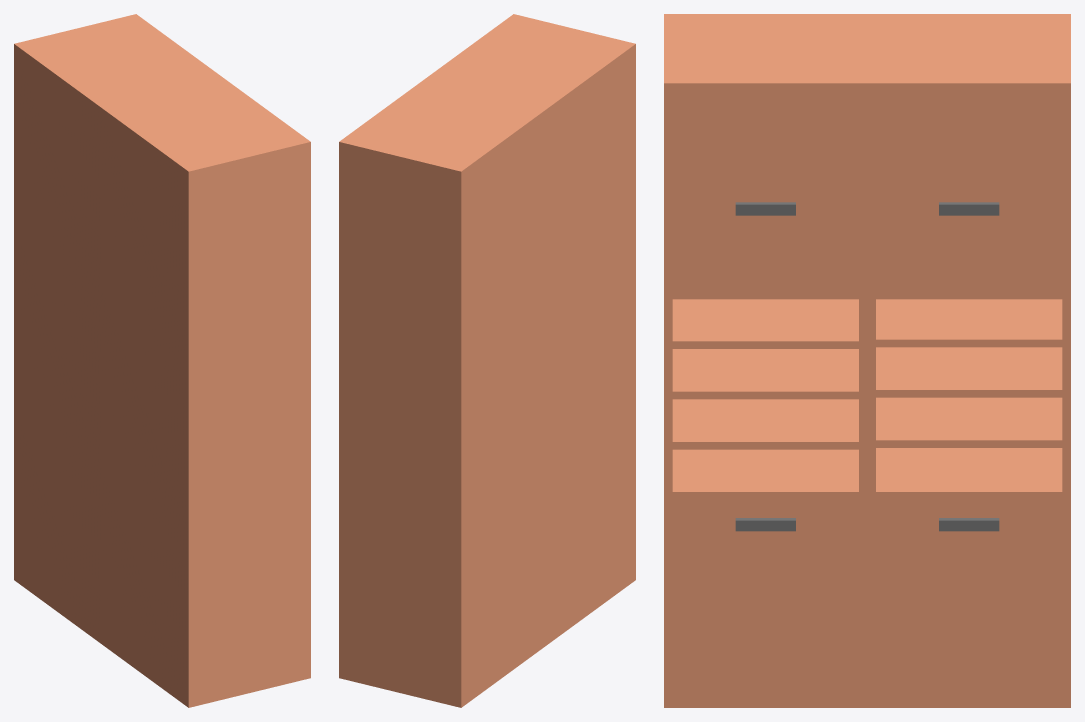
Rendered from VisioClassCloset.fbx.
The picture shows the model from 3 angles, left to right: view 1: azimuth 30°, elevation 25°; view 2: azimuth 150°, elevation 25°; view 3: azimuth 270°, elevation 25°; orthographic projection. The views are drawn at different scales.
Parts seen in each view (by area): view 1: Closet; view 2: Closet; view 3: Closet, PlankRM, PlankLM.001, PlankLM, PlankRB, PlankLT, PlankRT.
Boxes of the visible parts, box(x1,y1,x2,y2) form: Closet: box(14, 14, 310, 707); Closet: box(339, 14, 635, 707); Closet: box(664, 14, 1070, 707); PlankRM: box(876, 347, 1062, 397); PlankLM.001: box(672, 399, 858, 449); PlankLM: box(672, 349, 858, 399); PlankRB: box(876, 397, 1062, 447); PlankLT: box(672, 299, 858, 348); PlankRT: box(876, 299, 1062, 347).
Bounding box in the file's own units: 53.66 × 217 × 128.
